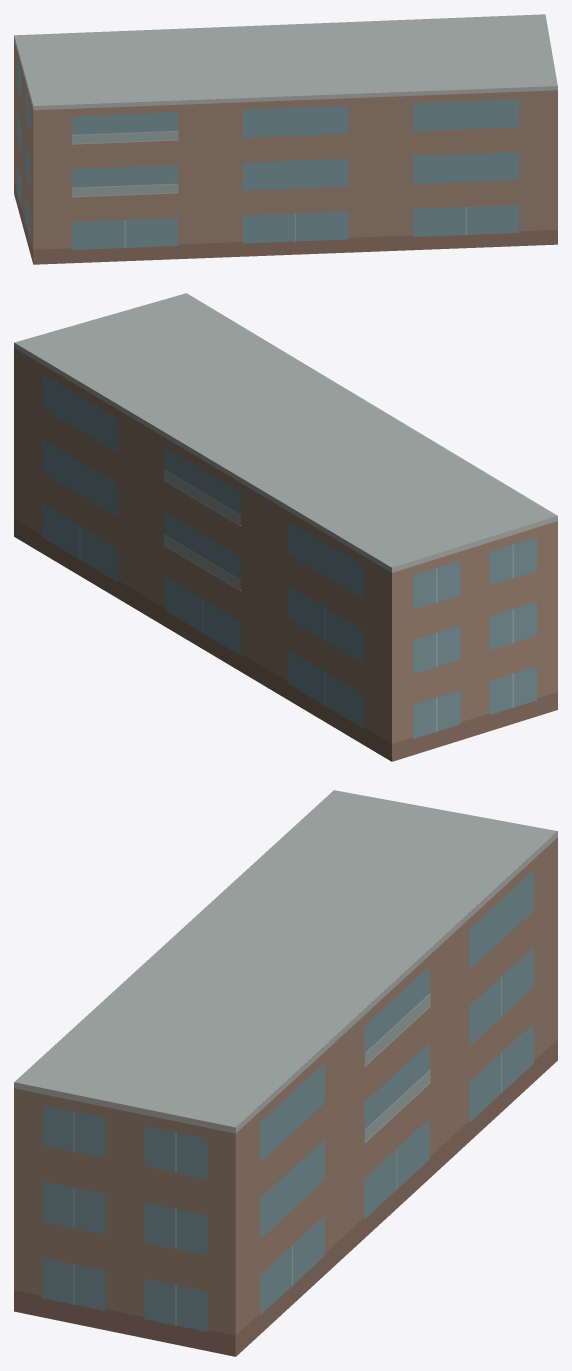
Rendered from survey-upis-32903187.glb.
The picture shows the model from 3 angles, top to bottom: view 1: azimuth 30°, elevation 25°; view 2: azimuth 150°, elevation 25°; view 3: azimuth 270°, elevation 25°; orthographic projection. The views are drawn at different scales.
Parts seen in each view (by area): view 1: survey-upis-32903187.tmp; view 2: survey-upis-32903187.tmp; view 3: survey-upis-32903187.tmp.
Part boxes in pixels (box(x1,y1,x2,y2)): survey-upis-32903187.tmp: box(14, 14, 557, 264); survey-upis-32903187.tmp: box(14, 293, 557, 761); survey-upis-32903187.tmp: box(14, 790, 557, 1356).
Bounding box in the file's own units: 28.89 × 9.15 × 19.68.
